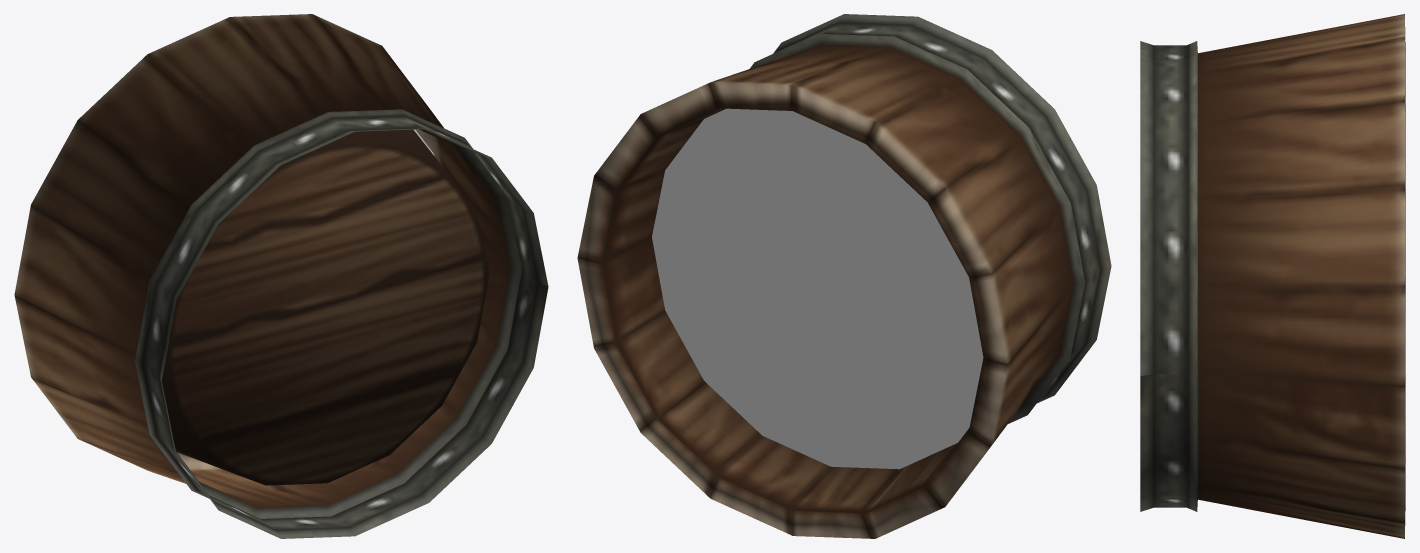
The model's file is Woodbasin.FBX.
3 renders of one model, left to right at view 1: azimuth 30°, elevation 25°; view 2: azimuth 150°, elevation 25°; view 3: azimuth 270°, elevation 25°, orthographic. The views are drawn at different scales.
Parts seen in each view (by area): view 1: Woodbasin; view 2: Woodbasin, basinwater; view 3: Woodbasin.
Boxes of the visible parts, x1=… form: Woodbasin: x1=14, y1=14, x2=548, y2=538; Woodbasin: x1=577, y1=14, x2=1111, y2=538; basinwater: x1=652, y1=108, x2=983, y2=469; Woodbasin: x1=1140, y1=14, x2=1405, y2=538.
Size of the model in its own units: 1.91 by 1.91 by 0.9653.
